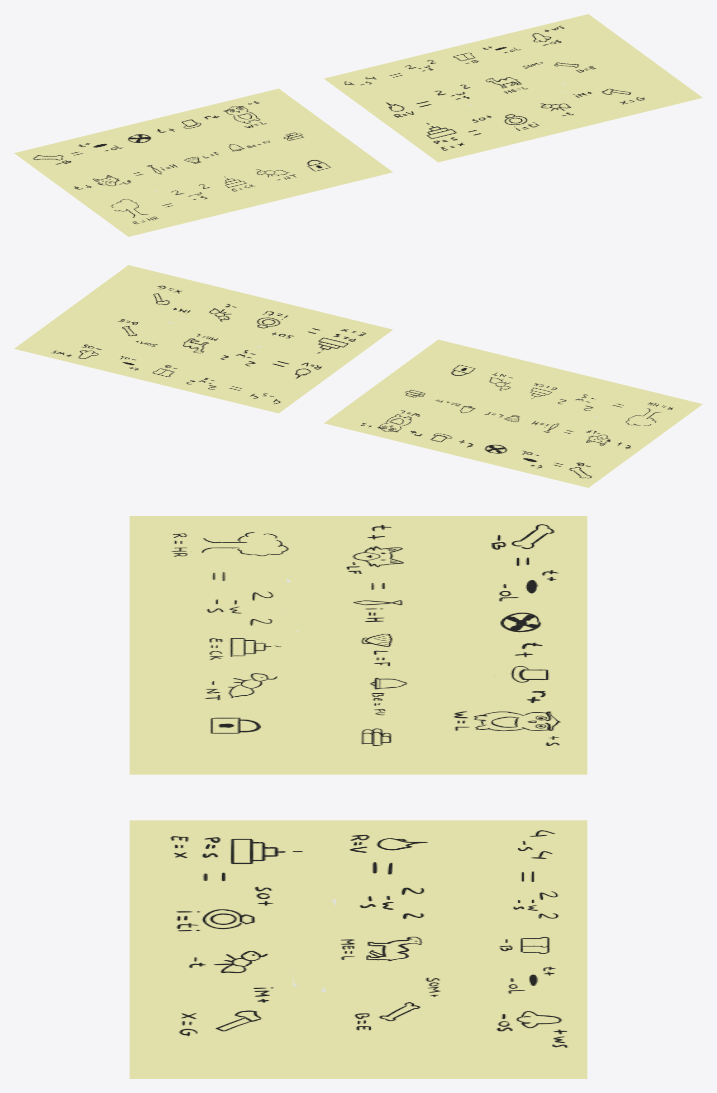
File: rebus.fbx
The picture shows the model from 3 angles, top to bottom: view 1: azimuth 30°, elevation 25°; view 2: azimuth 150°, elevation 25°; view 3: azimuth 270°, elevation 25°; orthographic projection. The views are drawn at different scales.
Parts seen in each view (by area): view 1: pPlane1, pPlane2; view 2: pPlane1, pPlane2; view 3: pPlane1, pPlane2.
Boxes of the visible parts, left/top/right/bottom form: pPlane1: left=14, top=88, right=392, bottom=236; pPlane2: left=324, top=14, right=702, bottom=162; pPlane1: left=324, top=339, right=702, bottom=487; pPlane2: left=14, top=265, right=392, bottom=413; pPlane1: left=129, top=516, right=587, bottom=774; pPlane2: left=129, top=820, right=587, bottom=1078.
Size of the model in its own units: 3.75 by 0.00668 by 1.3.
